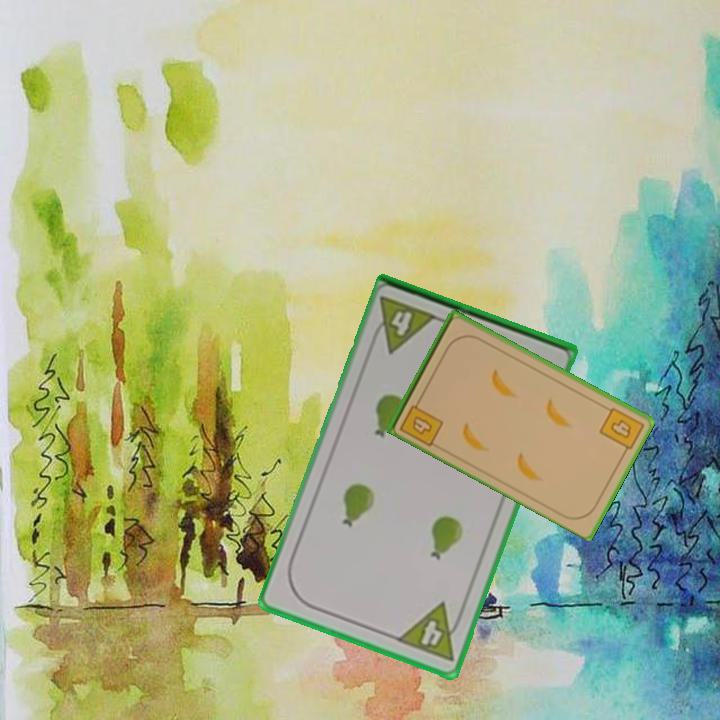4b: (396, 394, 446, 449), (596, 403, 646, 457)
4p: (393, 599, 468, 666), (366, 292, 441, 356)
